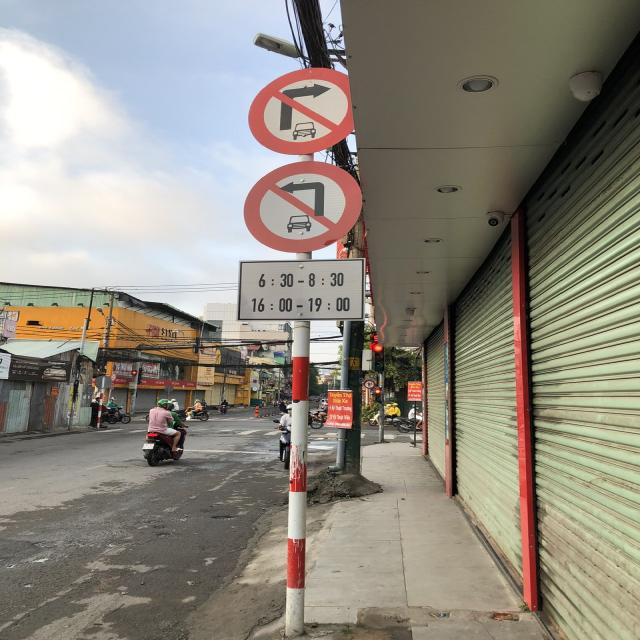Bien bao cam xe o to re phai: (244, 68, 364, 157)
Bien bao cam xe o to re trai: (236, 158, 372, 260)
